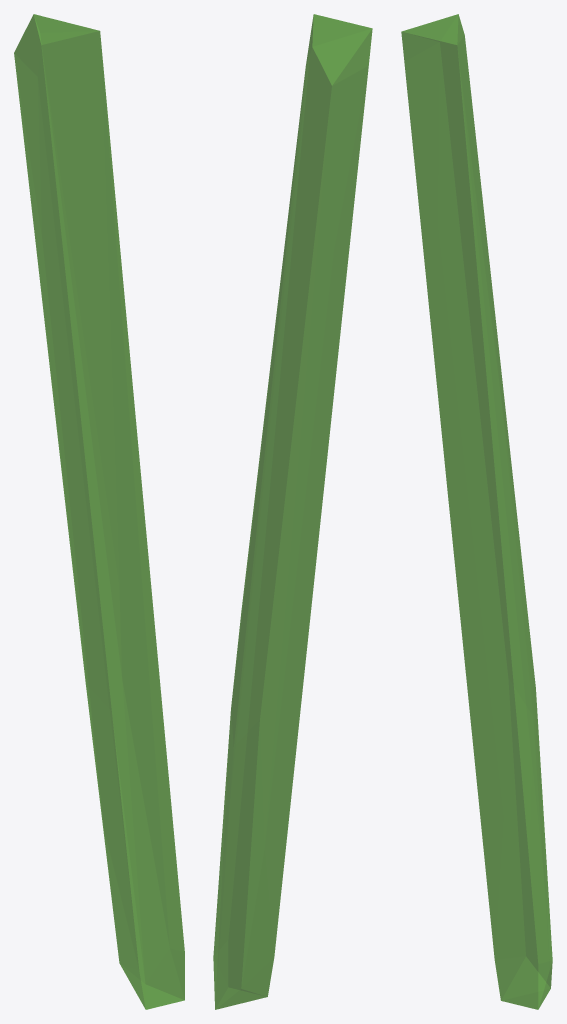
The picture shows the model from 3 angles, left to right: view 1: azimuth 30°, elevation 25°; view 2: azimuth 150°, elevation 25°; view 3: azimuth 330°, elevation 25°; orthographic projection. The views are drawn at different scales.
Visible parts, largest first — view 1: Shape_IndexedFaceSet.060_Shape_IndexedFaceSet.15265; view 2: Shape_IndexedFaceSet.060_Shape_IndexedFaceSet.15265; view 3: Shape_IndexedFaceSet.060_Shape_IndexedFaceSet.15265.
Boxes of the visible parts, x1=… form: Shape_IndexedFaceSet.060_Shape_IndexedFaceSet.15265: x1=14, y1=14, x2=184, y2=1009; Shape_IndexedFaceSet.060_Shape_IndexedFaceSet.15265: x1=213, y1=14, x2=372, y2=1009; Shape_IndexedFaceSet.060_Shape_IndexedFaceSet.15265: x1=401, y1=14, x2=552, y2=1009.
Bounding box in the file's own units: 0.00958 × 0.0631 × 0.00392.
